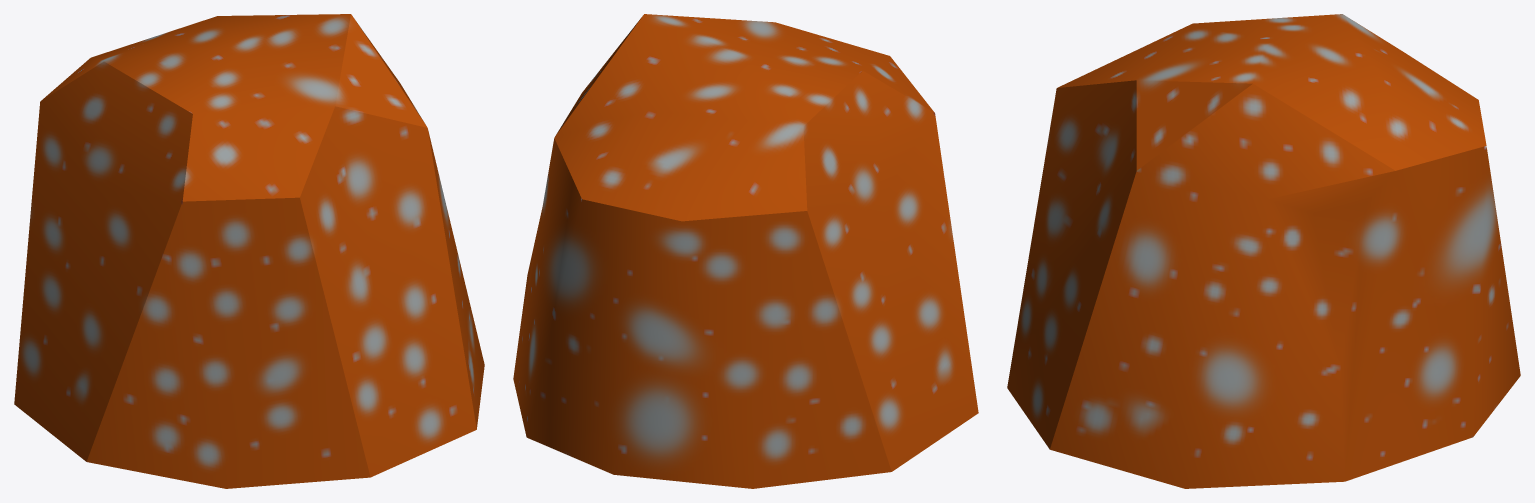
The model's file is Aluminio.fbx.
The picture shows the model from 3 angles, left to right: view 1: azimuth 30°, elevation 25°; view 2: azimuth 150°, elevation 25°; view 3: azimuth 270°, elevation 25°; orthographic projection.
Parts seen in each view (by area): view 1: Minerio_Aluminio; view 2: Minerio_Aluminio; view 3: Minerio_Aluminio.
Boxes of the visible parts, x1,y1,x2,y2 form: Minerio_Aluminio: [14, 14, 484, 488]; Minerio_Aluminio: [513, 14, 978, 488]; Minerio_Aluminio: [1007, 14, 1520, 488].
Bounding box in the file's own units: 198 × 167 × 217.
